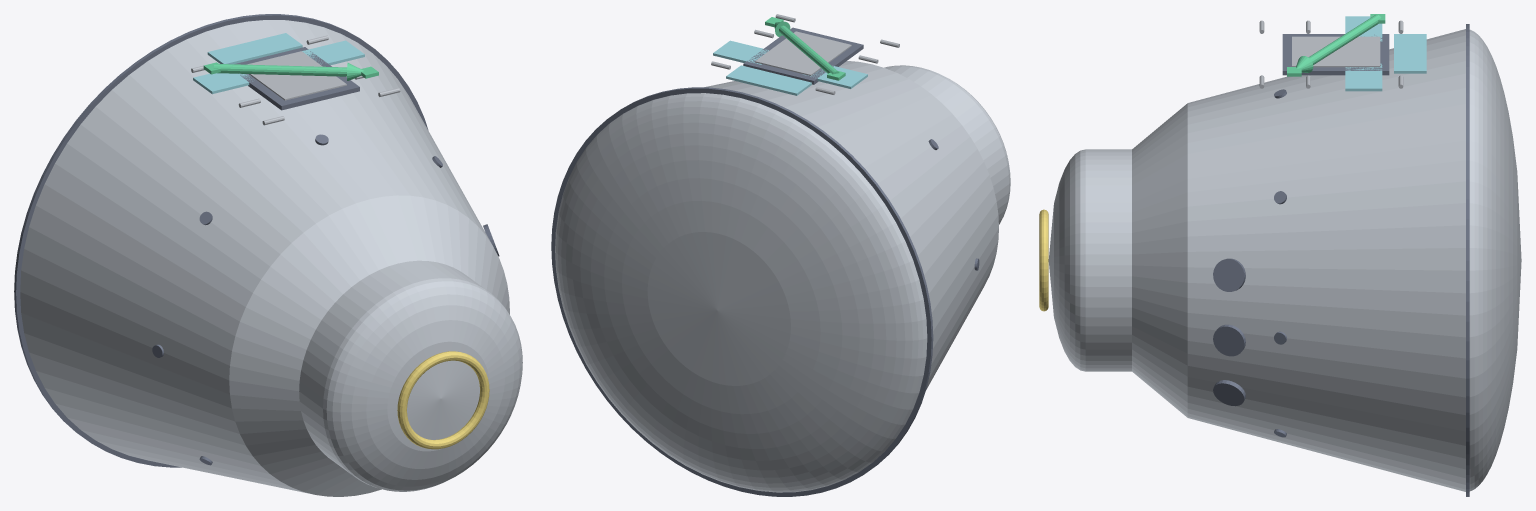
File: Orion_RFID_Future_State_Solid.glb
The picture shows the model from 3 angles, left to right: view 1: azimuth 30°, elevation 25°; view 2: azimuth 150°, elevation 25°; view 3: azimuth 270°, elevation 25°; orthographic projection. The views are drawn at different scales.
Parts seen in each view (by area): view 1: capsule_body, heat_shield_rim, docking_ring, hatch_inner, rfid_pinpoint_path, hatch_panel, stowage_2, stowage_1, stowage_0; view 2: capsule_body, heat_shield_rim, hatch_inner, hatch_panel, stowage_2, rfid_pinpoint_path, stowage_1, stowage_0; view 3: capsule_body, hatch_inner, heat_shield_rim, hatch_panel, stowage_2, rfid_pinpoint_path, docking_ring, stowage_1, window_2, window_1, window_0.
Part boxes in pixels (x1=…): capsule_body: x1=20, y1=20, x2=522, y2=496; heat_shield_rim: x1=14, y1=14, x2=428, y2=467; docking_ring: x1=397, y1=351, x2=489, y2=449; hatch_inner: x1=247, y1=51, x2=346, y2=100; rfid_pinpoint_path: x1=203, y1=62, x2=378, y2=80; hatch_panel: x1=234, y1=47, x2=359, y2=110; stowage_2: x1=207, y1=33, x2=302, y2=64; stowage_1: x1=302, y1=40, x2=364, y2=65; stowage_0: x1=193, y1=73, x2=252, y2=94; capsule_body: x1=555, y1=61, x2=1010, y2=492; heat_shield_rim: x1=551, y1=87, x2=933, y2=496; hatch_inner: x1=755, y1=31, x2=851, y2=75; hatch_panel: x1=743, y1=27, x2=863, y2=84; stowage_2: x1=726, y1=65, x2=811, y2=95; rfid_pinpoint_path: x1=765, y1=17, x2=845, y2=80; stowage_1: x1=713, y1=40, x2=768, y2=64; stowage_0: x1=803, y1=65, x2=867, y2=88; capsule_body: x1=1048, y1=29, x2=1521, y2=491; hatch_inner: x1=1292, y1=36, x2=1380, y2=67; heat_shield_rim: x1=1466, y1=24, x2=1469, y2=496; hatch_panel: x1=1282, y1=34, x2=1389, y2=75; stowage_2: x1=1394, y1=34, x2=1426, y2=73; rfid_pinpoint_path: x1=1287, y1=14, x2=1385, y2=76; docking_ring: x1=1039, y1=209, x2=1048, y2=311; stowage_1: x1=1345, y1=63, x2=1382, y2=91; window_2: x1=1213, y1=258, x2=1245, y2=291; window_1: x1=1213, y1=324, x2=1245, y2=356; window_0: x1=1213, y1=380, x2=1245, y2=406.
Size of the model in its own units: 5.1 by 5.2 by 5.2.
